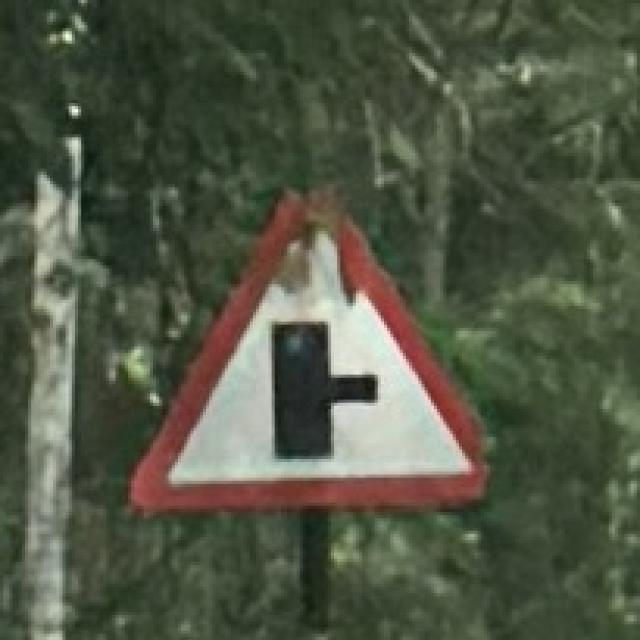SIDE_ROAD_RIGHT: (118, 161, 504, 524)
